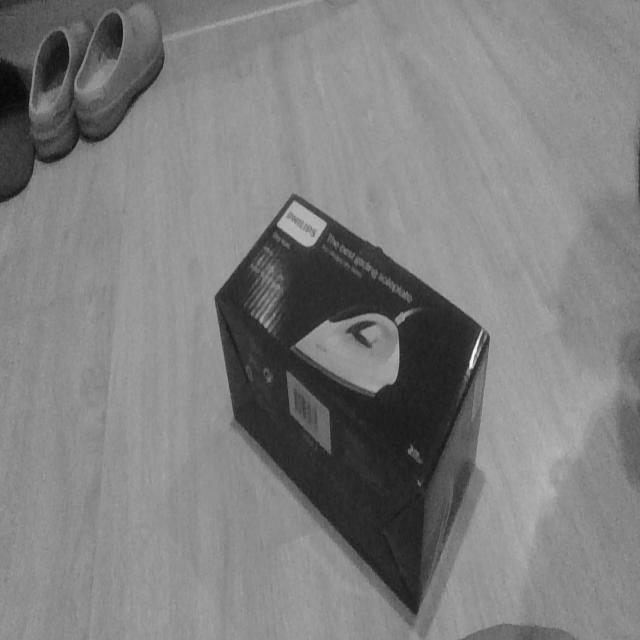IRON: (212, 189, 492, 619)
